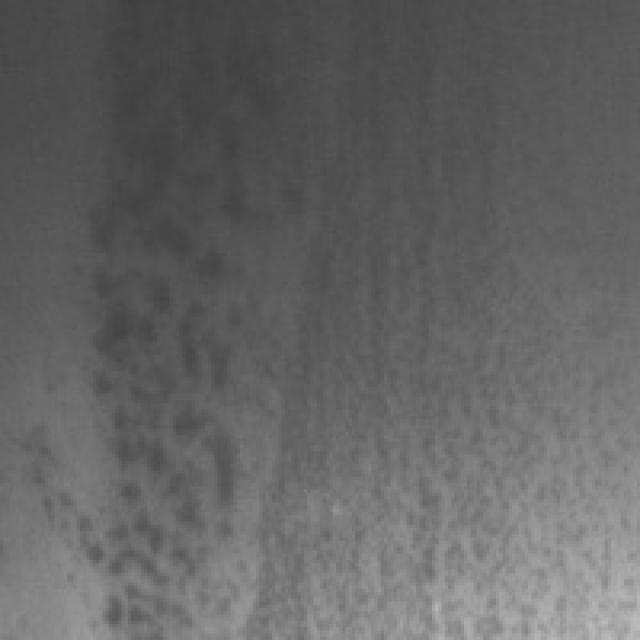pitted_surface: (269, 6, 598, 621), (64, 3, 291, 624)
